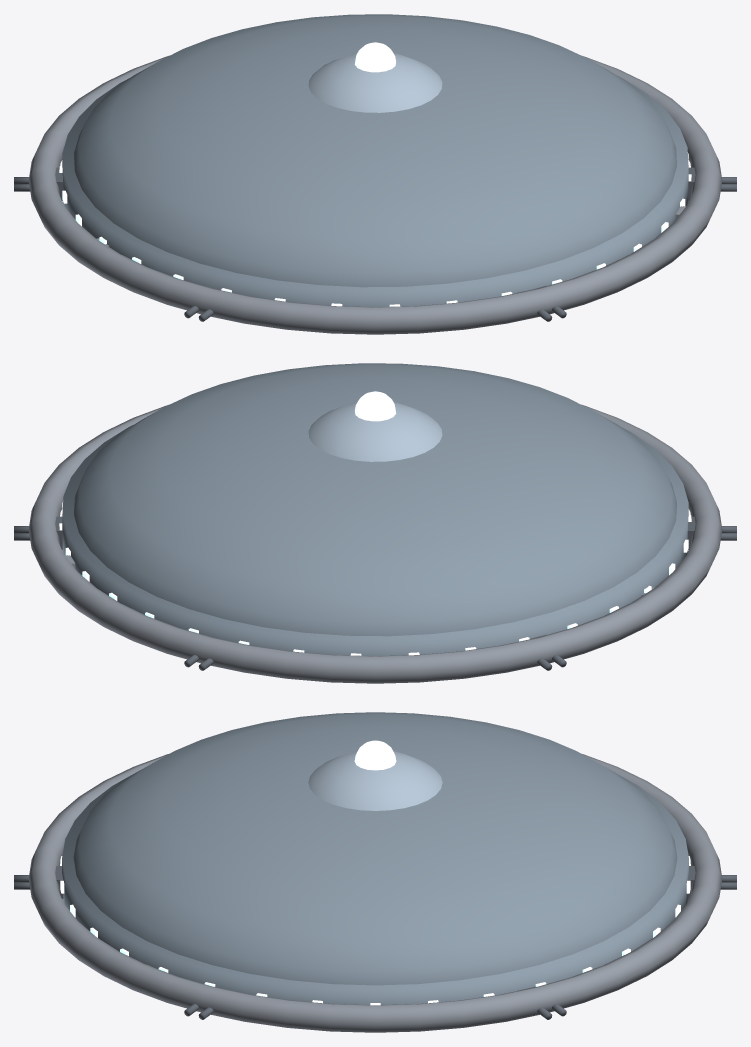
The model's file is mothership.glb.
3 renders of one model, top to bottom at view 1: azimuth 30°, elevation 25°; view 2: azimuth 150°, elevation 25°; view 3: azimuth 270°, elevation 25°, orthographic.
Parts seen in each view (by area): view 1: mothership; view 2: mothership; view 3: mothership.
Part boxes in pixels (box(x1,y1,x2,y2)): mothership: box(14, 14, 736, 334); mothership: box(14, 363, 736, 683); mothership: box(14, 712, 736, 1032).
Size of the model in its own units: 3.32 by 1.39 by 3.46.
